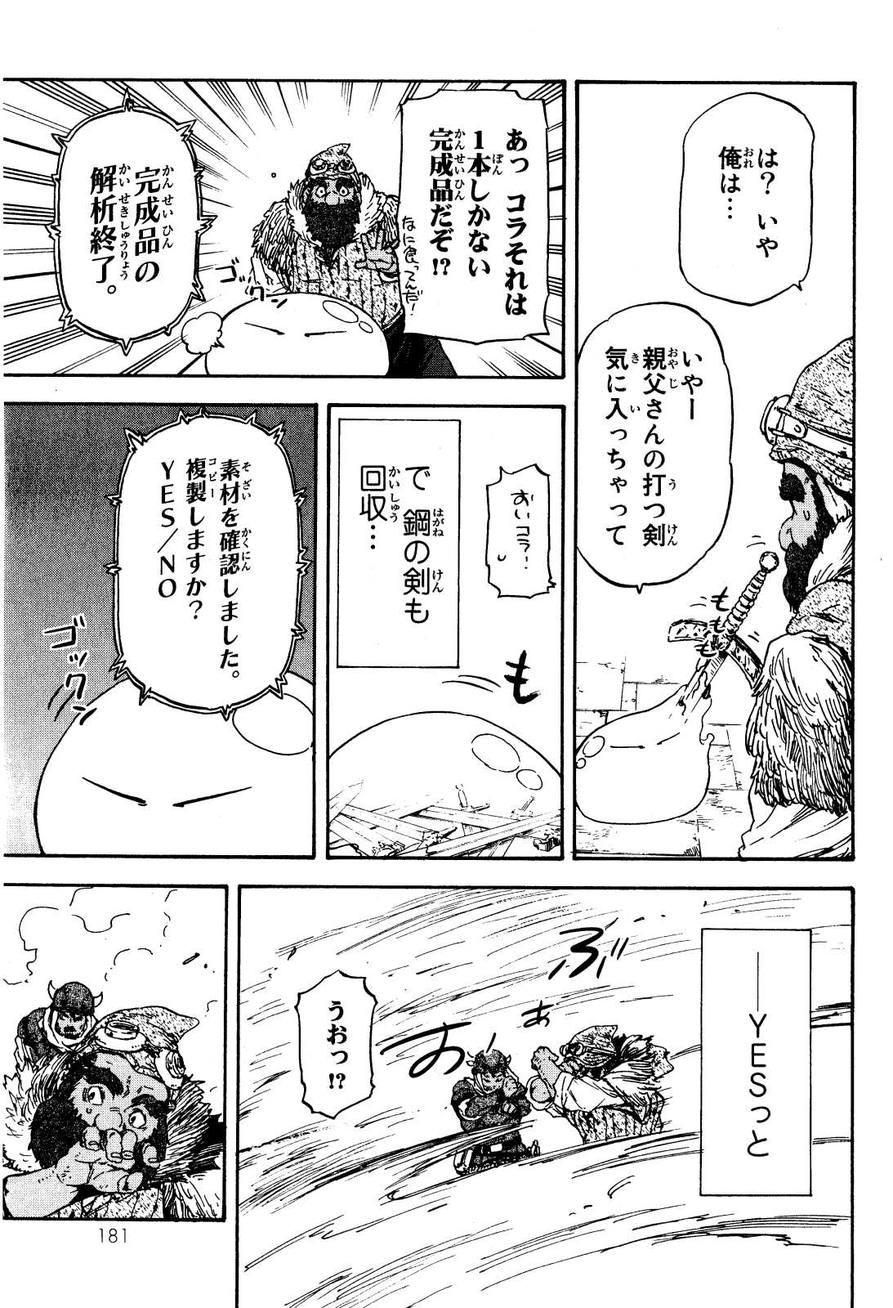bubbles: (104, 405, 313, 725), (38, 84, 221, 356), (580, 293, 739, 593), (386, 85, 560, 350), (699, 925, 816, 1200), (673, 89, 818, 309), (336, 414, 460, 671), (292, 969, 377, 1125), (484, 459, 560, 602)
